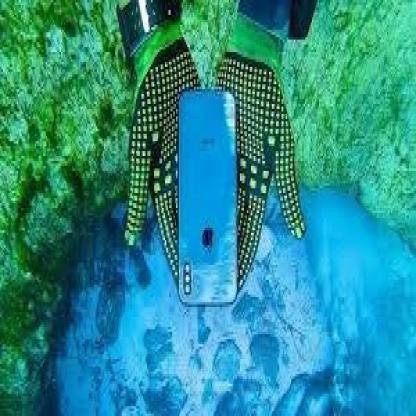cellphone: (178, 86, 242, 308)
